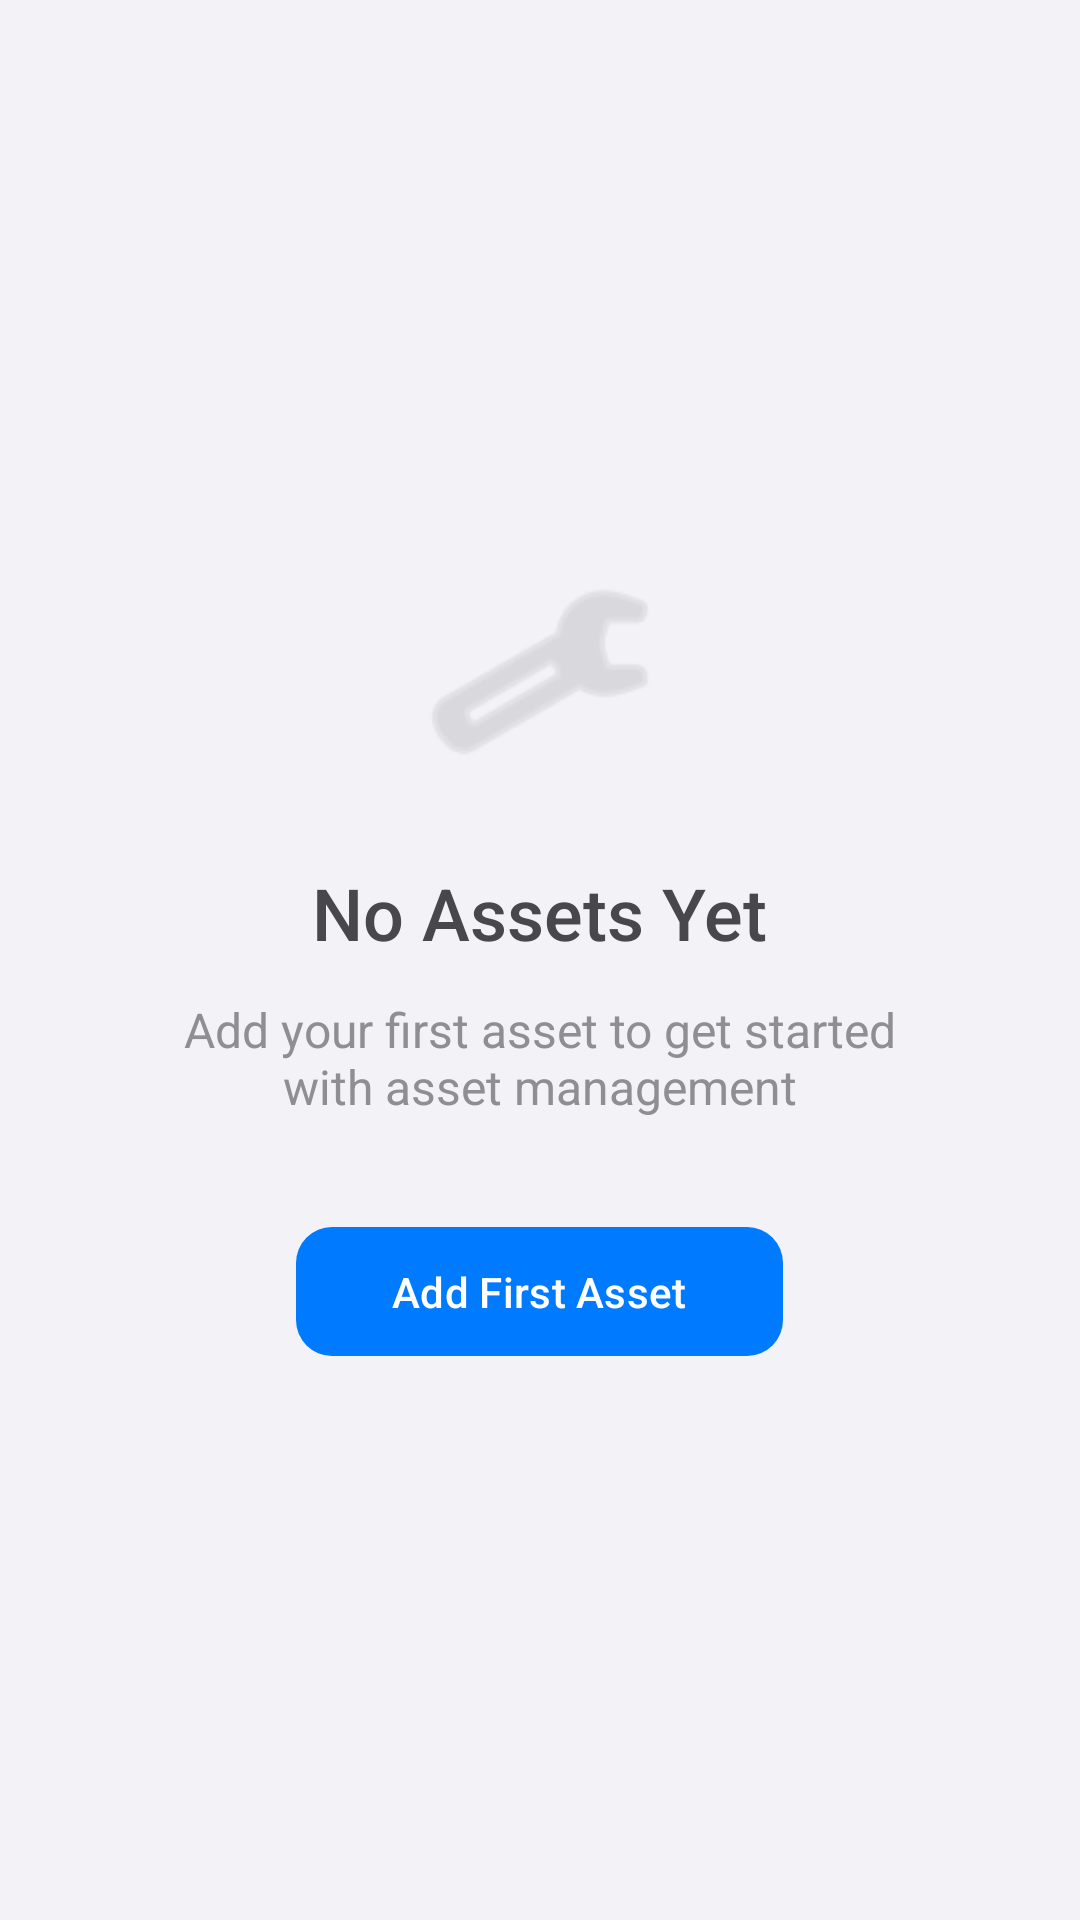

Icon bounding boxes for this 1080×1920 phone screenshot, format (x1, y1, x2, y2):
manage: (438, 597, 642, 747)
